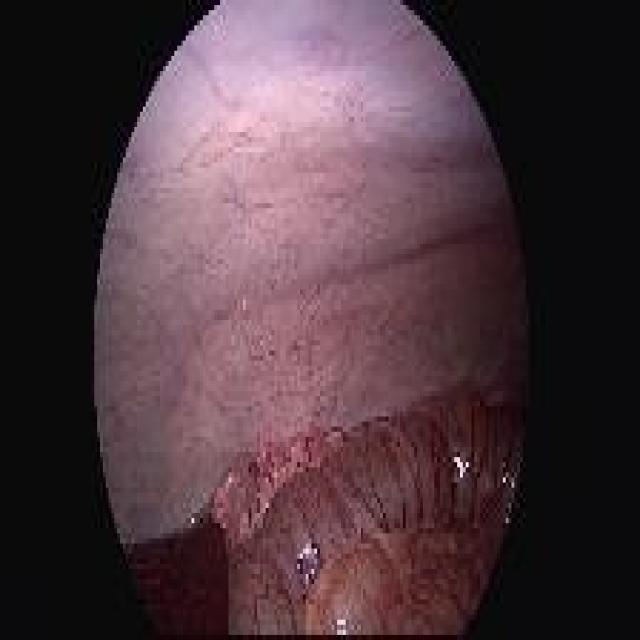contrast: (482, 211, 528, 465)
specularity: (297, 539, 321, 585), (451, 449, 470, 484), (332, 609, 354, 636), (502, 468, 516, 488), (187, 512, 198, 530)
